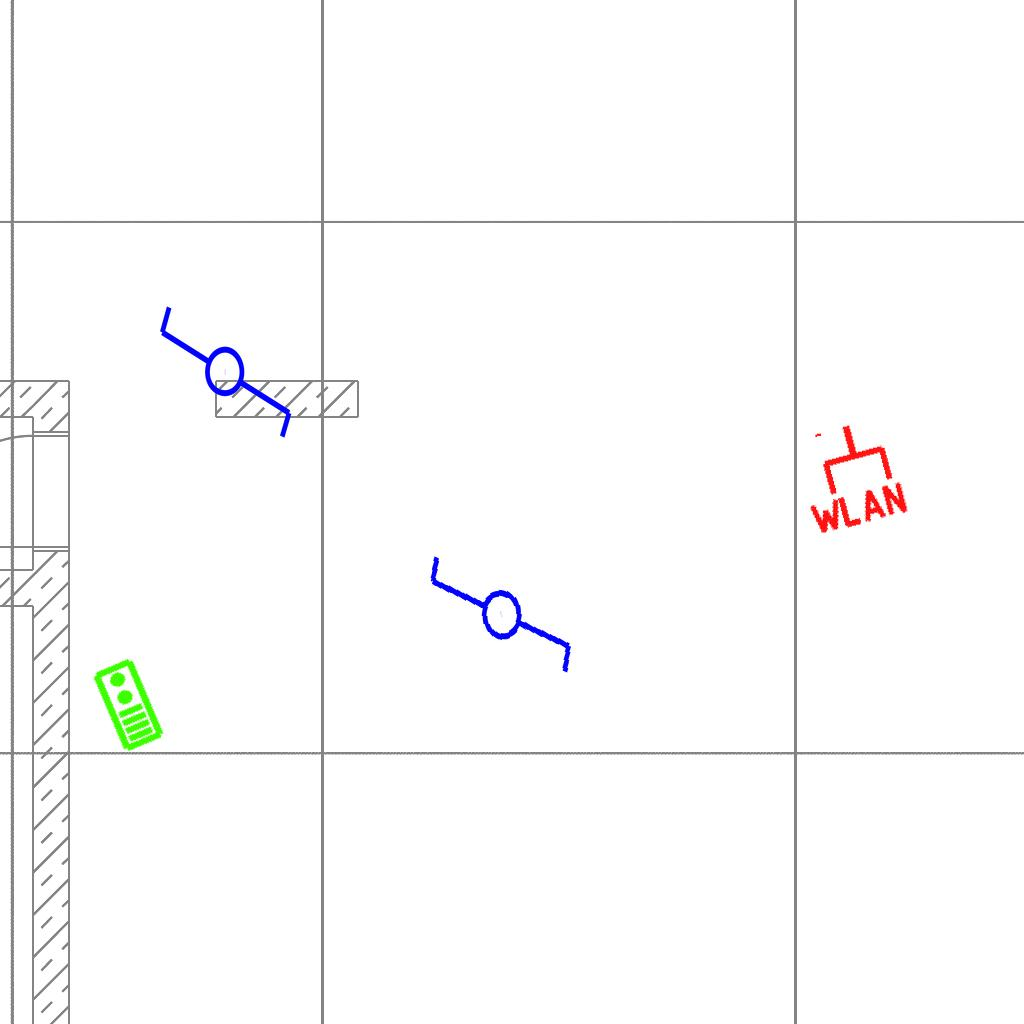Gegensprechanlage_mit_Video: (88, 655, 167, 755)
WLAN: (785, 410, 914, 540)
Wechselschalter: (419, 536, 582, 710), (155, 285, 299, 442)
